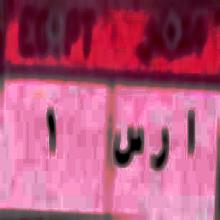1: (43, 102, 62, 160)
alif: (182, 106, 198, 171)
raa: (147, 121, 172, 186)
seen: (112, 122, 144, 168)
